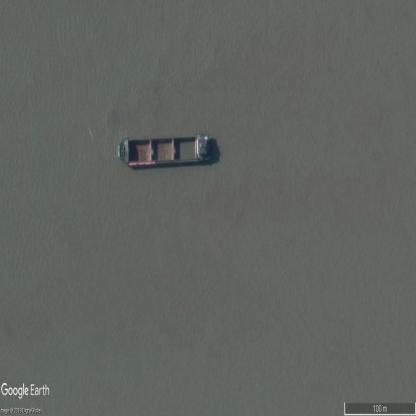ship: (119, 130, 214, 168)
